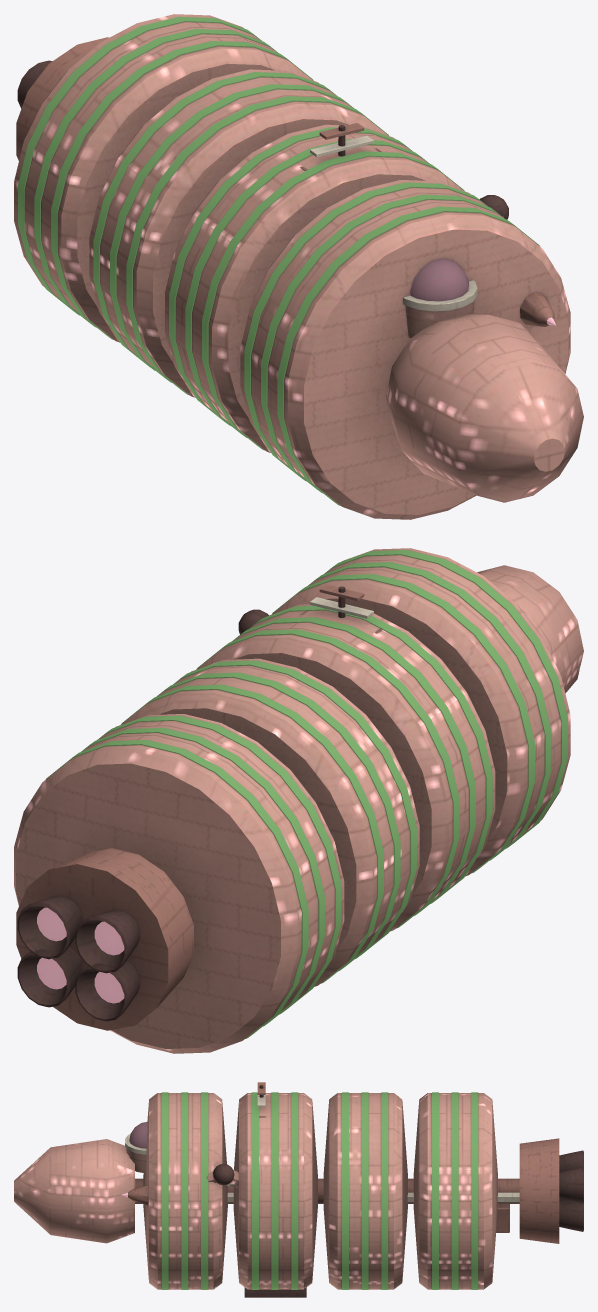
File: tessari_carrier.glb
3 views of the same model, one above another, from view 1: azimuth 30°, elevation 25°; view 2: azimuth 150°, elevation 25°; view 3: azimuth 270°, elevation 25° (orthographic). The views are drawn at different scales.
Parts seen in each view (by area): view 1: HULL, SYS_BRIDGE, SYS_DRIVE, SYS_WPN1, SYS_SENSORS; view 2: HULL, SYS_DRIVE, SYS_SENSORS; view 3: HULL, SYS_DRIVE, SYS_WPN1, SYS_BRIDGE, SYS_HANGAR, SYS_JUMP, SYS_BUS_A.
Boxes of the visible parts, x1,y1,x2,y2 form: HULL: (14,14,583,519); SYS_BRIDGE: (403,258,477,337); SYS_DRIVE: (16,37,108,160); SYS_WPN1: (479,195,555,326); SYS_SENSORS: (300,123,381,170); HULL: (14,548,583,1053); SYS_DRIVE: (16,848,193,1030); SYS_SENSORS: (300,584,382,633); HULL: (14,1092,519,1289); SYS_DRIVE: (519,1138,583,1243); SYS_WPN1: (121,1163,238,1205); SYS_BRIDGE: (125,1122,147,1173); SYS_HANGAR: (244,1287,306,1297); SYS_JUMP: (496,1203,509,1232); SYS_BUS_A: (407,1192,519,1202).
Bounding box in the file's own units: 19.63 × 22.02 × 57.04.
1 material, 1 textured.
